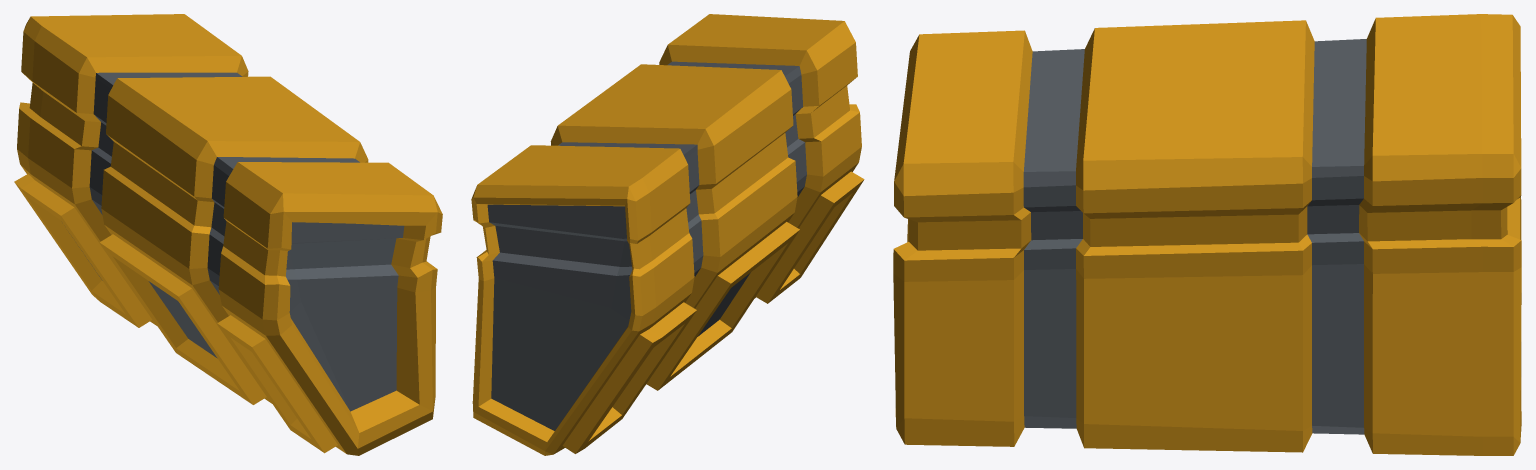
File: Fighter_10_Engine_Right_Yellow.fbx
3 renders of one model, left to right at view 1: azimuth 30°, elevation 25°; view 2: azimuth 150°, elevation 25°; view 3: azimuth 270°, elevation 25°, orthographic. The views are drawn at different scales.
Parts seen in each view (by area): view 1: Fighter_10_Engine_Right_Yellow; view 2: Fighter_10_Engine_Right_Yellow; view 3: Fighter_10_Engine_Right_Yellow.
Boxes of the visible parts, x1,y1,x2,y2 form: Fighter_10_Engine_Right_Yellow: (14,14,442,455); Fighter_10_Engine_Right_Yellow: (471,14,864,455); Fighter_10_Engine_Right_Yellow: (893,14,1521,455).
Size of the model in its own units: 403 by 595 by 912.
2 materials, 2 textured.
